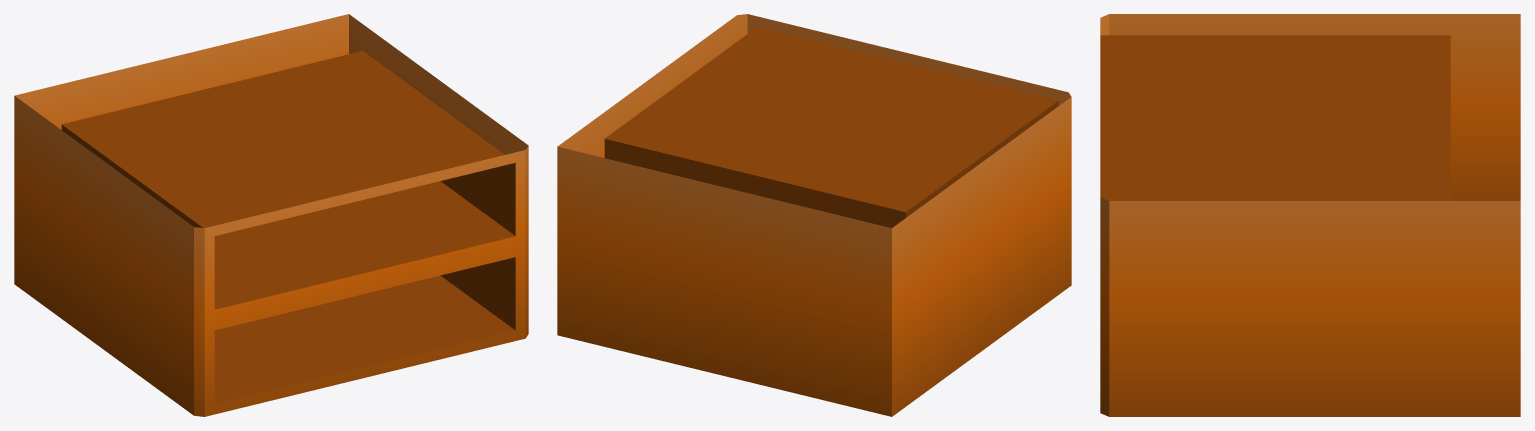
File: Counter_01_v07_S_C03.fbx
3 views of the same model, side by side, from view 1: azimuth 30°, elevation 25°; view 2: azimuth 150°, elevation 25°; view 3: azimuth 270°, elevation 25° (orthographic). The views are drawn at different scales.
Parts seen in each view (by area): view 1: Counter_01_v07_S_C03; view 2: Counter_01_v07_S_C03; view 3: Counter_01_v07_S_C03.
Boxes of the visible parts, left/top/right/bottom form: Counter_01_v07_S_C03: left=14, top=14, right=528, bottom=416; Counter_01_v07_S_C03: left=557, top=14, right=1071, bottom=416; Counter_01_v07_S_C03: left=1100, top=14, right=1520, bottom=416.
Bounding box in the file's own units: 100 × 53.91 × 94.97.
